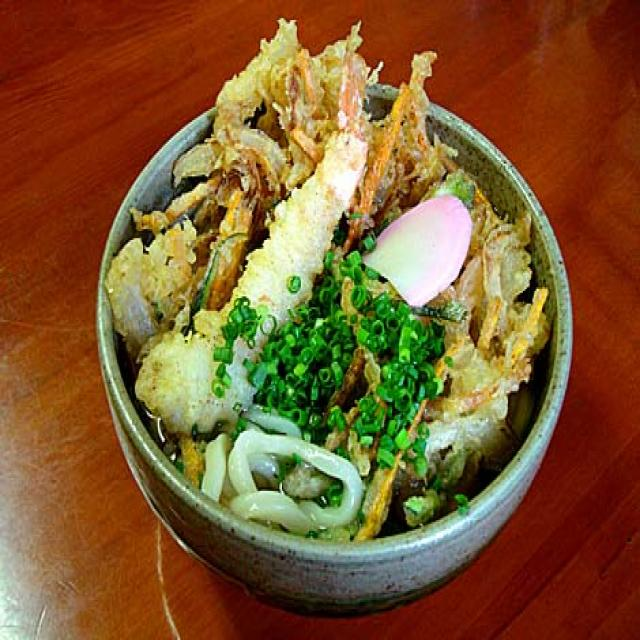面条主食: (106, 38, 544, 535)
